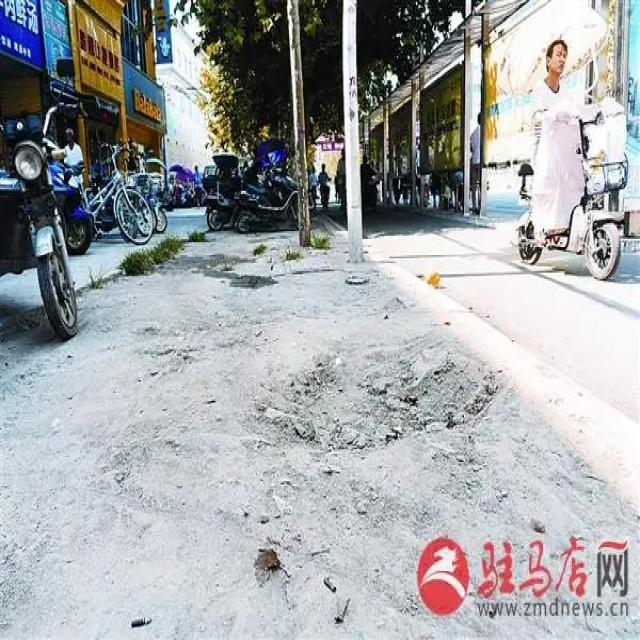Pothole: (284, 350, 506, 450)
